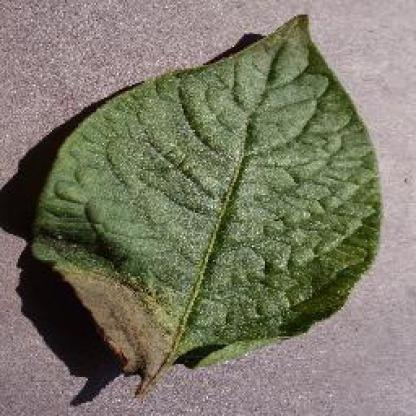bad leaf: (25, 25, 396, 404)
